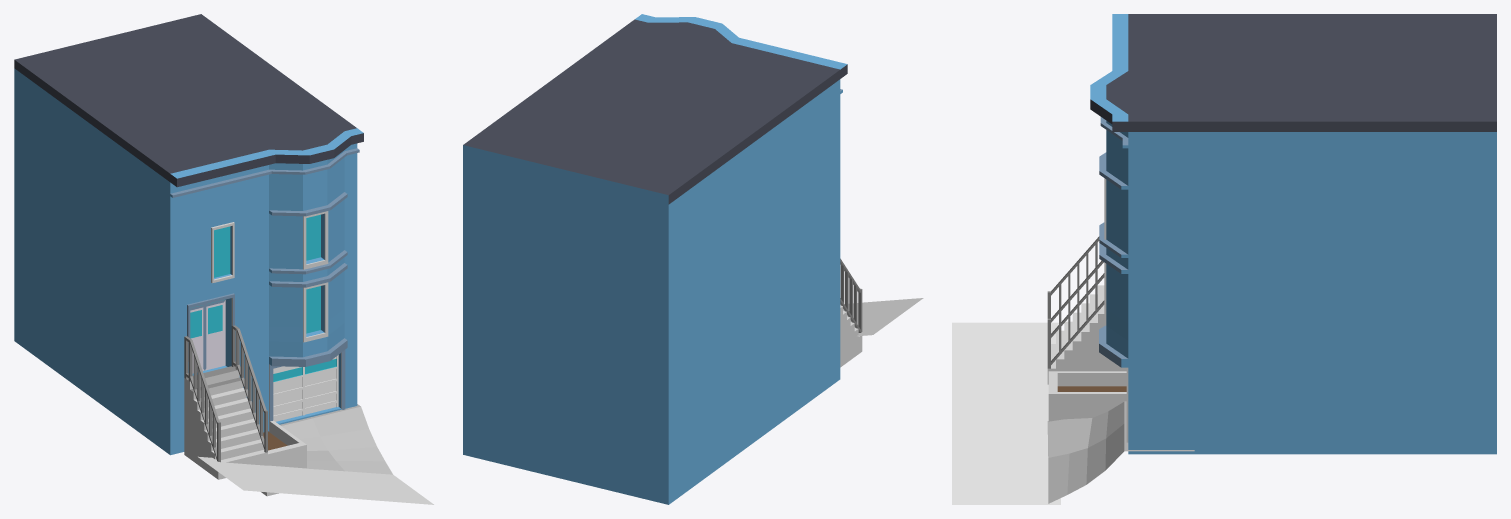
The model's file is sf_house1.glb.
3 renders of one model, left to right at view 1: azimuth 30°, elevation 25°; view 2: azimuth 150°, elevation 25°; view 3: azimuth 270°, elevation 25°, orthographic. The views are drawn at different scales.
Parts seen in each view (by area): view 1: House, Stairs, Plane, GarageRamp, Planter; view 2: House, Stairs, Plane; view 3: House, Plane, GarageRamp, Stairs, Planter.
Part boxes in pixels (left/top/right/bottom): House: left=14, top=14, right=363, bottom=455; Stairs: left=184, top=325, right=267, bottom=479; Plane: left=198, top=456, right=433, bottom=504; GarageRamp: left=280, top=404, right=392, bottom=474; Planter: left=261, top=420, right=306, bottom=496; House: left=463, top=14, right=847, bottom=504; Stairs: left=840, top=258, right=862, bottom=367; Plane: left=840, top=298, right=923, bottom=336; House: left=1090, top=14, right=1496, bottom=454; Plane: left=952, top=322, right=1060, bottom=504; GarageRamp: left=1047, top=401, right=1194, bottom=503; Stairs: left=1047, top=236, right=1126, bottom=384; Planter: left=1048, top=371, right=1126, bottom=421.
Bounding box in the file's own units: 9.56 × 15.44 × 19.98.
